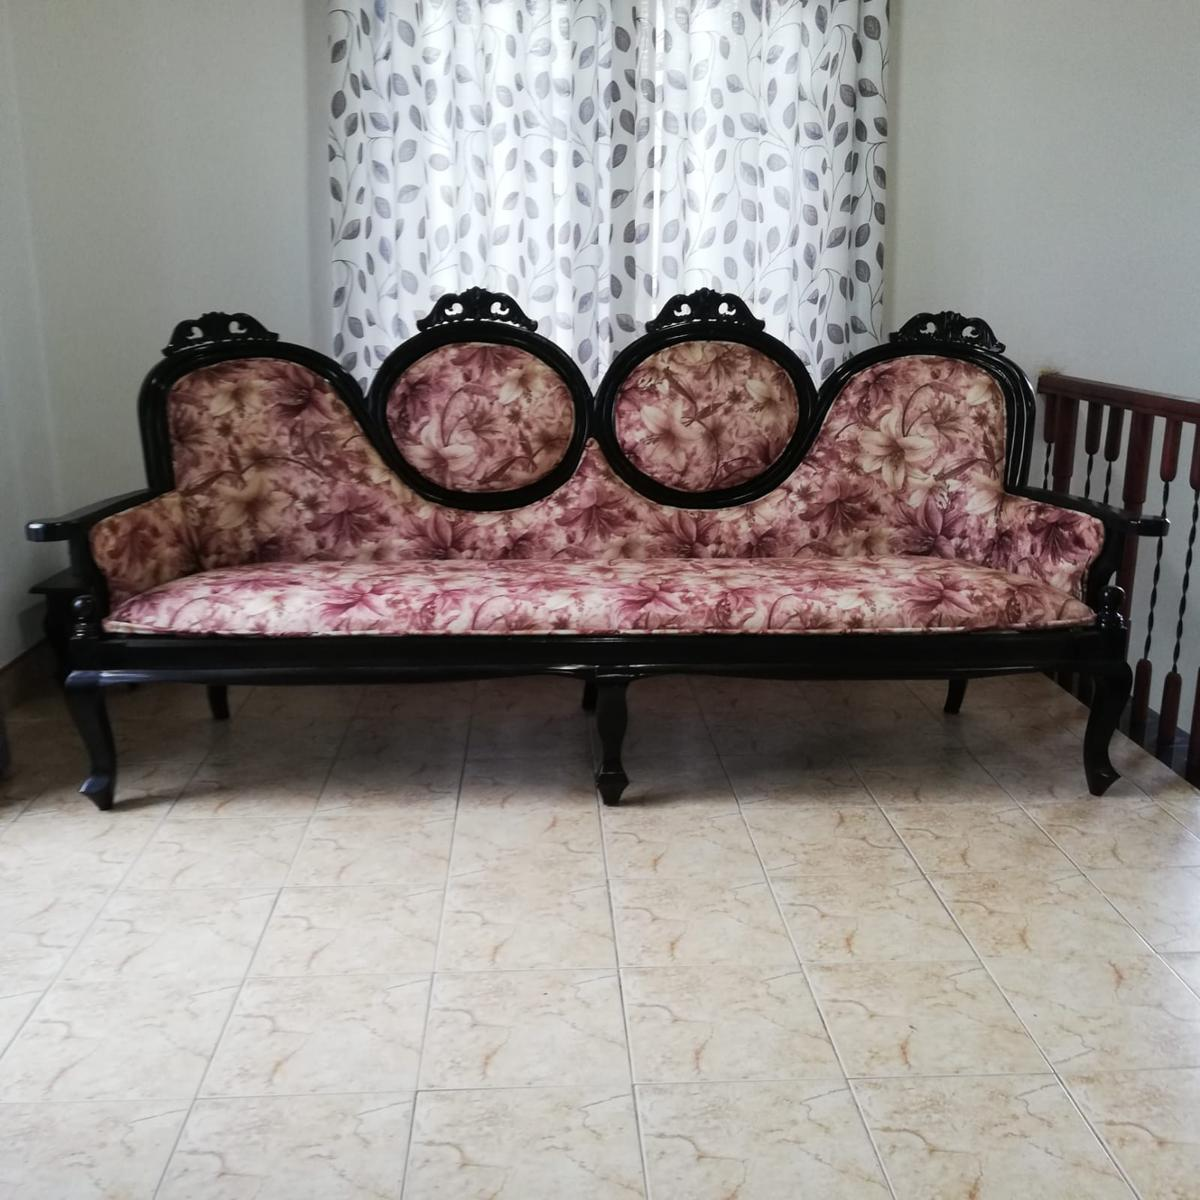Sofa: (22, 286, 1159, 808)
